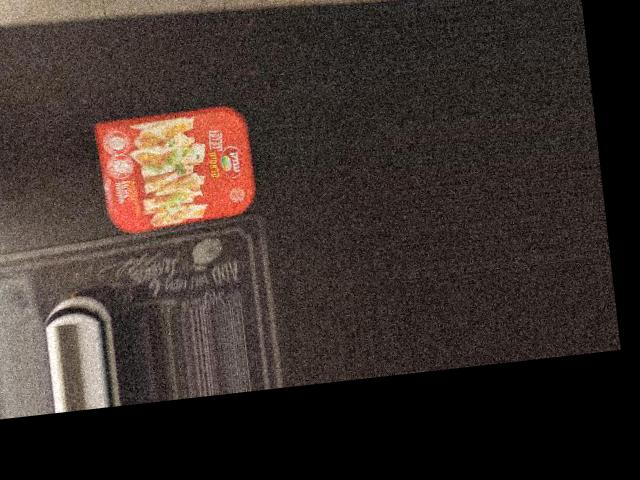cheese: (86, 99, 257, 238)
